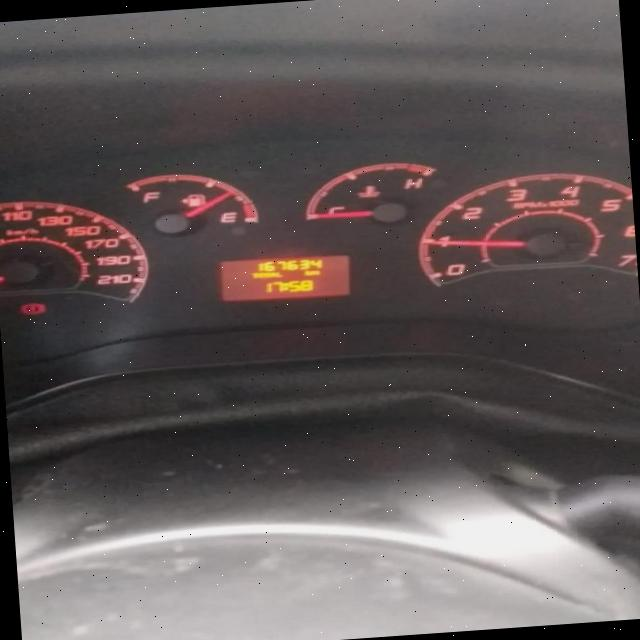odometer: (212, 247, 356, 306)
